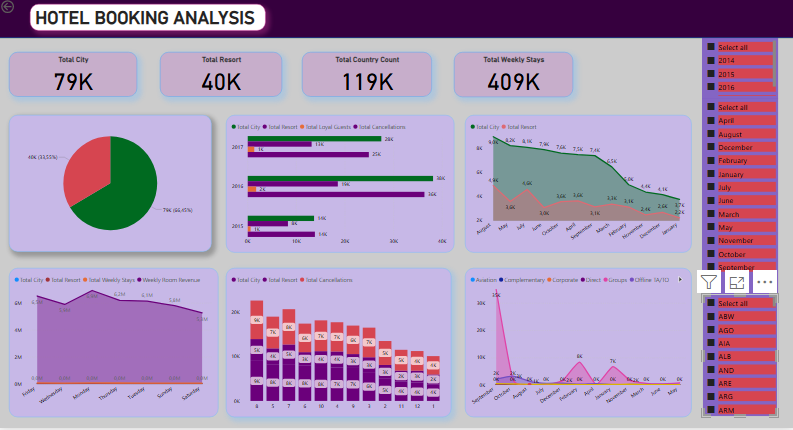

The page's visual inventory and layout, read from the dashboard file:
{"tool":"powerbi","page":{"name":"Hotel","canvas":[1850,1000],"ordinal":1},"visuals":[{"type":"shape","box":[0,-4.7,1851.2,97.7],"z":0},{"type":"textbox","title":"HOTEL BOOKING ANALYSIS","box":[71.7,13.3,548.3,61.7],"z":1000},{"type":"card","title":"Total City","fields":{"Values":["Total Measures.Total City"]},"box":[22.2,126.7,297.8,104.4],"z":2000},{"type":"card","title":"Total Resort","fields":{"Values":["Total Measures.Total Resort"]},"box":[375.6,126.7,284.4,104.4],"z":3000},{"type":"card","title":"Total Country Count","fields":{"Values":["Total Measures.Total Country Count"]},"box":[704.4,126.7,302.2,104.4],"z":4000},{"type":"pieChart","fields":{"Y":["Total Measures.Total City","Total Measures.Total Resort"]},"box":[22.2,271.1,471.1,317.8],"z":5000},{"type":"areaChart","fields":{"Category":["DateTable.Weekday"],"Y":["Total Measures.Total City","Total Measures.Total Resort","Total Measures.Total Weekly","Total Measures.Weekly Room Revenue"]},"box":[22.2,628.9,486.7,346.7],"z":6000},{"type":"actionButton","box":[0,0,100,40],"z":7000},{"type":"lineStackedColumnComboChart","fields":{"Category":["hotel_bookings.Date.Month Num"],"Y":["Total Measures.Total City","Total Measures.Total Resort","Total Measures.Total Cancellations"]},"box":[528.9,628.9,524.4,346.7],"z":8000},{"type":"clusteredBarChart","fields":{"Category":["hotel_bookings.arrival_year"],"Y":["Total Measures.Total City","Total Measures.Total Resort","Total Measures.Total Loyal Guests","Total Measures.Total Cancellations"]},"box":[528.9,271.1,531.1,320],"z":9000},{"type":"areaChart","fields":{"Category":["hotel_bookings.arrival_month"],"Y":["Total Measures.Total City","Total Measures.Total Resort"]},"box":[1084.4,271.1,526.7,320],"z":10000},{"type":"areaChart","fields":{"Category":["hotel_bookings.arrival_month"],"Series":["hotel_bookings.market_segment"],"Y":["Total Measures.Cancellation %"]},"box":[1084.4,628.9,526.7,346.7],"z":11000},{"type":"card","title":"Total Weekly Stays","fields":{"Values":["Total Measures.Total Weekly"]},"box":[1058.1,125.6,276.7,104.7],"z":12000},{"type":"slicer","fields":{"Values":["DateTable.Year"]},"box":[1634.9,93,176.7,139.5],"z":13000},{"type":"slicer","fields":{"Values":["hotel_bookings.arrival_month"]},"box":[1634.9,232.6,176.7,458.1],"z":14000},{"type":"slicer","fields":{"Values":["hotel_bookings.country"]},"box":[1634.9,688.4,176.7,286],"z":15000}]}

Visuals, with their boxes in screenshot pixels (x1, y1, x2, y2), scaled from the page's 1850x1000 canvas onto the 793x430 screenshot:
shape: [0,0,792,40]
"HOTEL BOOKING ANALYSIS" textbox: [31,6,266,32]
"Total City" card: [10,54,137,99]
"Total Resort" card: [161,54,283,99]
"Total Country Count" card: [302,54,431,99]
pieChart - Total Measures.Total City x Total Measures.Total Resort: [10,117,211,253]
areaChart - DateTable.Weekday x Total Measures.Total City: [10,270,218,420]
actionButton: [0,0,43,17]
lineStackedColumnComboChart - hotel_bookings.Date.Month Num x Total Measures.Total City: [227,270,451,420]
clusteredBarChart - hotel_bookings.arrival_year x Total Measures.Total City: [227,117,454,254]
areaChart - hotel_bookings.arrival_month x Total Measures.Total City: [465,117,691,254]
areaChart - hotel_bookings.arrival_month x hotel_bookings.market_segment: [465,270,691,420]
"Total Weekly Stays" card: [454,54,572,99]
slicer - DateTable.Year: [701,40,777,100]
slicer - hotel_bookings.arrival_month: [701,100,777,297]
slicer - hotel_bookings.country: [701,296,777,419]
